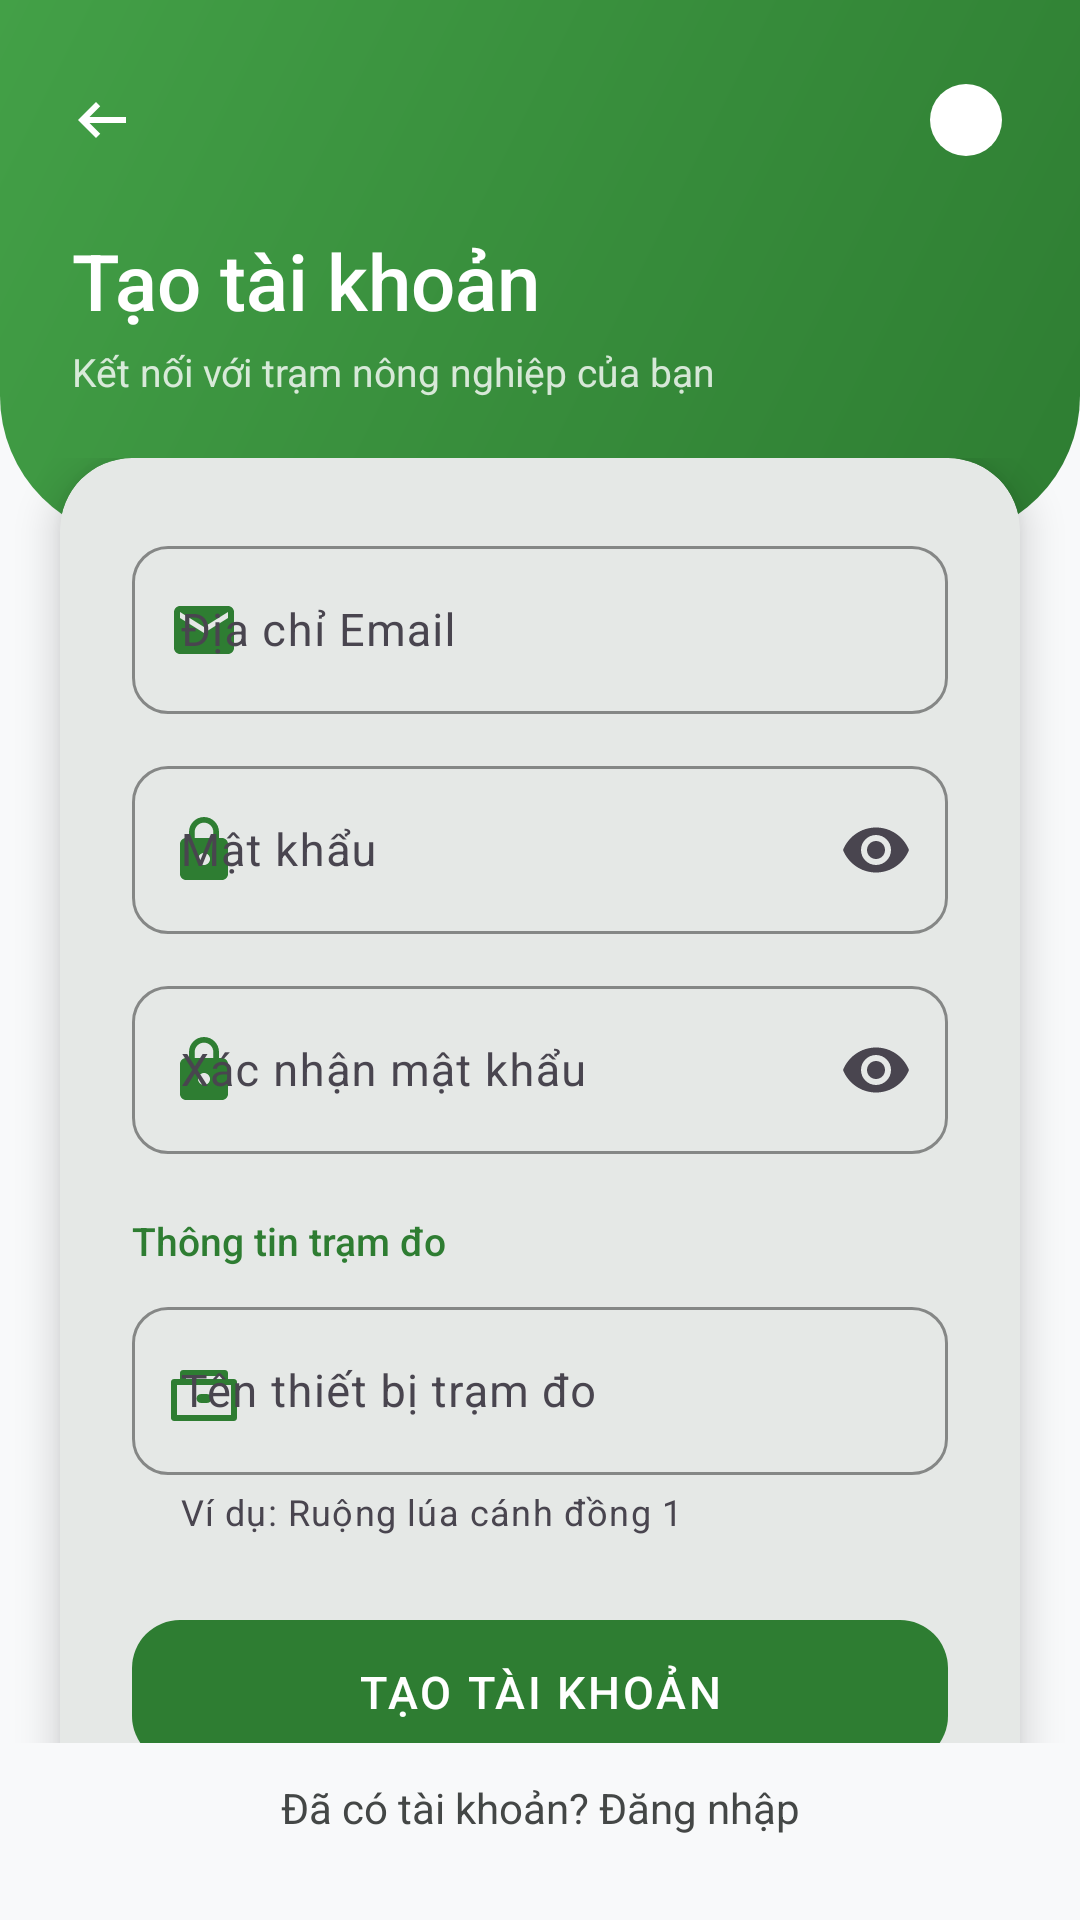

Screen size 1080w x 1920h. Icon name, then its box in pixels as box=[x1, y1, x2, y2]:
arrow back: box=[78, 102, 126, 138]
